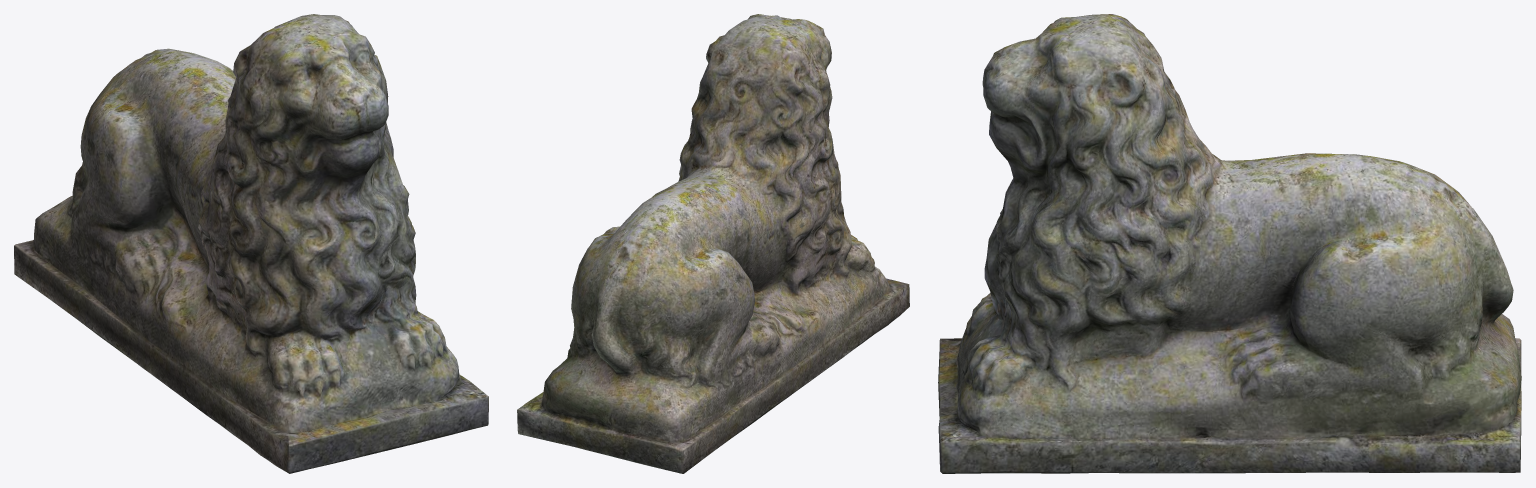
File: stone_lion.glb
The picture shows the model from 3 angles, left to right: view 1: azimuth 30°, elevation 25°; view 2: azimuth 150°, elevation 25°; view 3: azimuth 270°, elevation 25°; orthographic projection. The views are drawn at different scales.
Visible parts, largest first — view 1: Object_2; view 2: Object_2; view 3: Object_2.
Boxes of the visible parts, left/top/right/bottom form: Object_2: left=14, top=14, right=488, bottom=473; Object_2: left=517, top=14, right=909, bottom=473; Object_2: left=938, top=14, right=1521, bottom=473.
Bounding box in the file's own units: 0.8544 × 1.5 × 2.
1 material, 1 textured.
